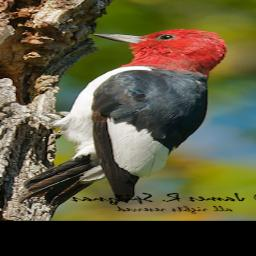Woodpecker: (12, 26, 226, 208)
